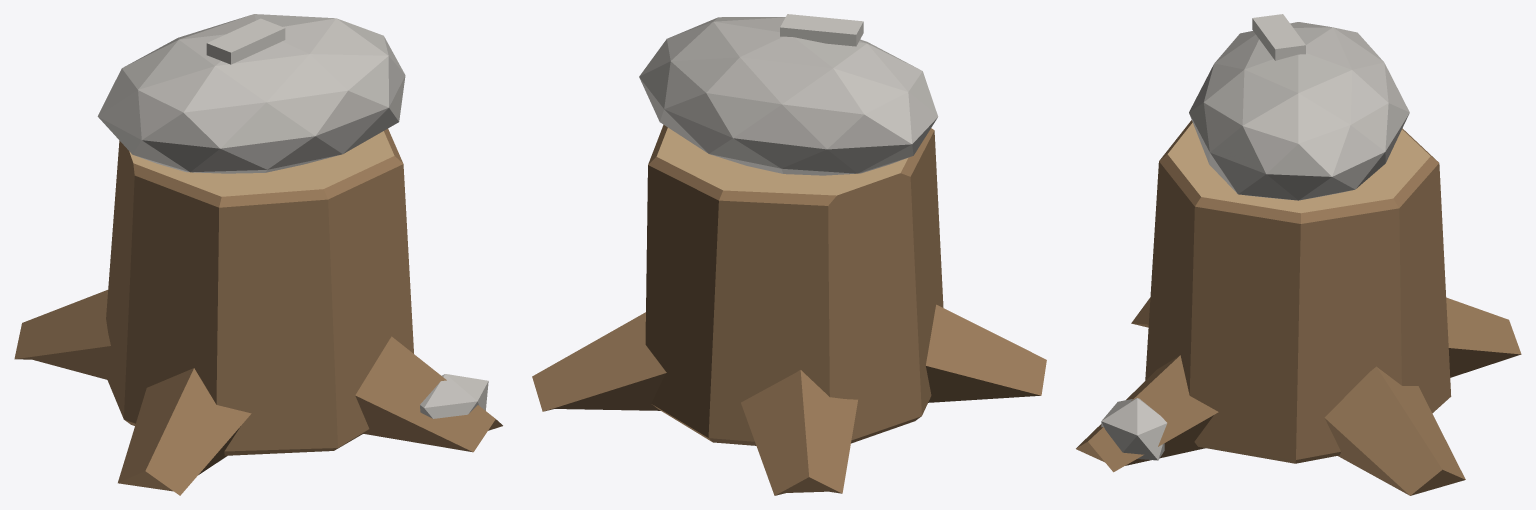
Rendered from anvil.glb.
3 views of the same model, side by side, from view 1: azimuth 30°, elevation 25°; view 2: azimuth 150°, elevation 25°; view 3: azimuth 270°, elevation 25° (orthographic). The views are drawn at different scales.
Visible parts, largest first — view 1: anvil; view 2: anvil; view 3: anvil.
Part boxes in pixels (box(x1,y1,x2,y2)): anvil: box(14, 14, 502, 495); anvil: box(532, 14, 1046, 495); anvil: box(1076, 14, 1521, 495).
Bounding box in the file's own units: 0.6924 × 0.62 × 0.6924.
